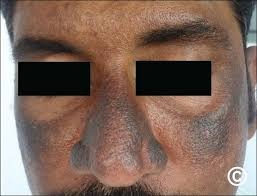Melasma: (14, 104, 246, 172), (93, 66, 136, 105), (216, 53, 247, 107)
